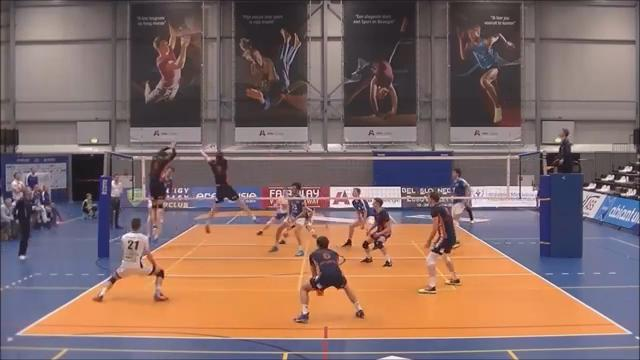attacco: (146, 164, 177, 237)
muro: (197, 143, 261, 234), (142, 138, 180, 242)
